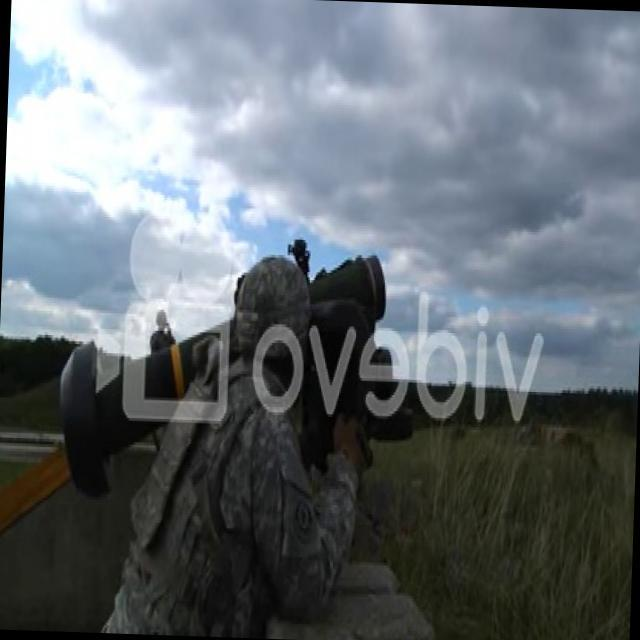rocket: (63, 243, 380, 486)
